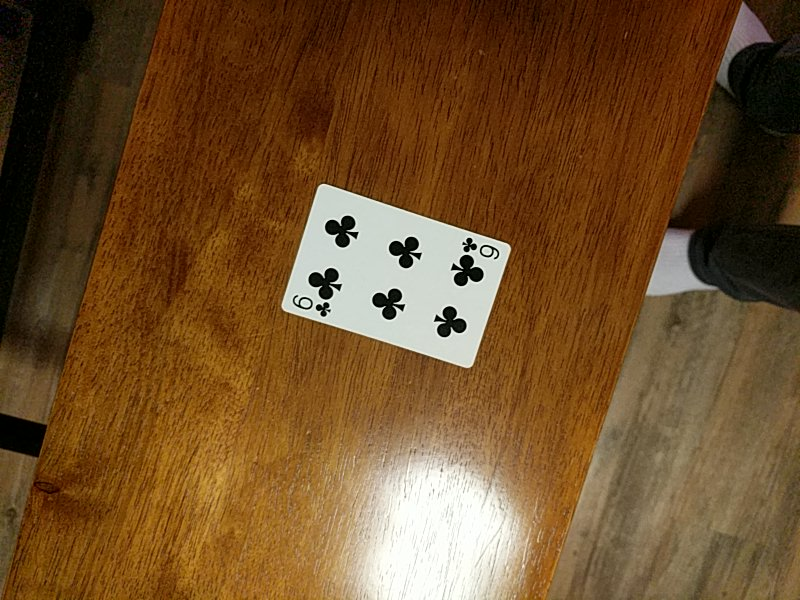Clubs: (272, 181, 511, 370)
